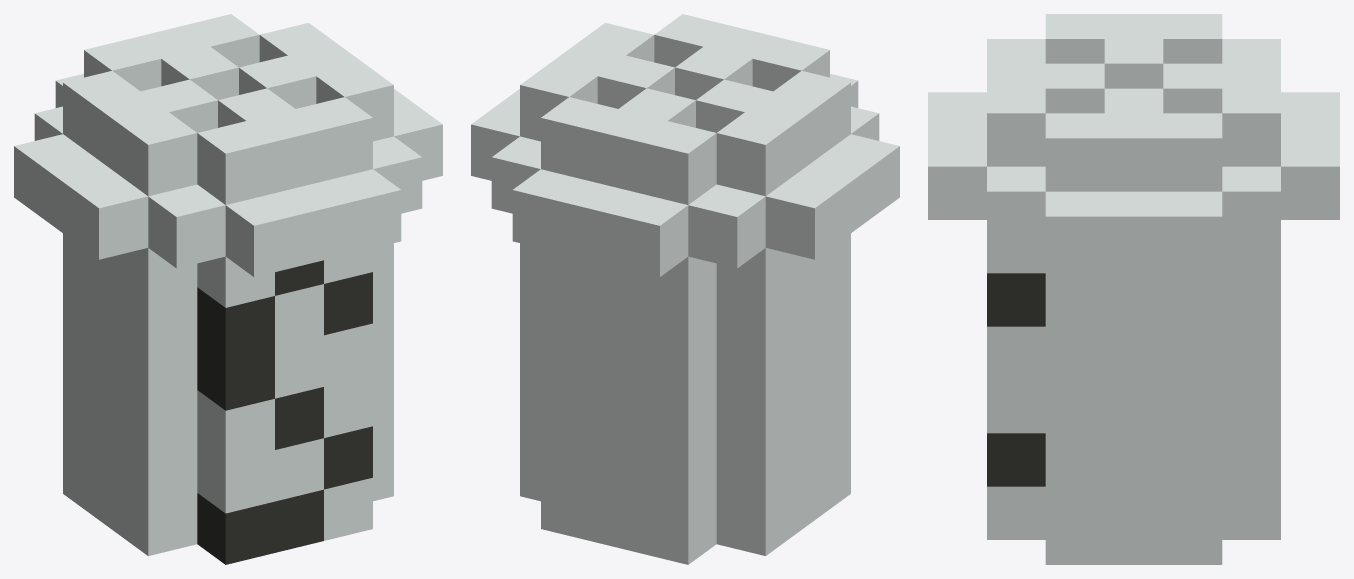
Rendered from seliere_centre_de_table2.fbx.
3 renders of one model, left to right at view 1: azimuth 30°, elevation 25°; view 2: azimuth 150°, elevation 25°; view 3: azimuth 270°, elevation 25°, orthographic. The views are drawn at different scales.
Parts seen in each view (by area): view 1: Centre saliere; view 2: Centre saliere; view 3: Centre saliere.
Boxes of the visible parts, x1=… form: Centre saliere: x1=14, y1=14, x2=442, y2=564; Centre saliere: x1=471, y1=14, x2=899, y2=564; Centre saliere: x1=928, y1=14, x2=1339, y2=564.
Bounding box in the file's own units: 7 × 8 × 7.
